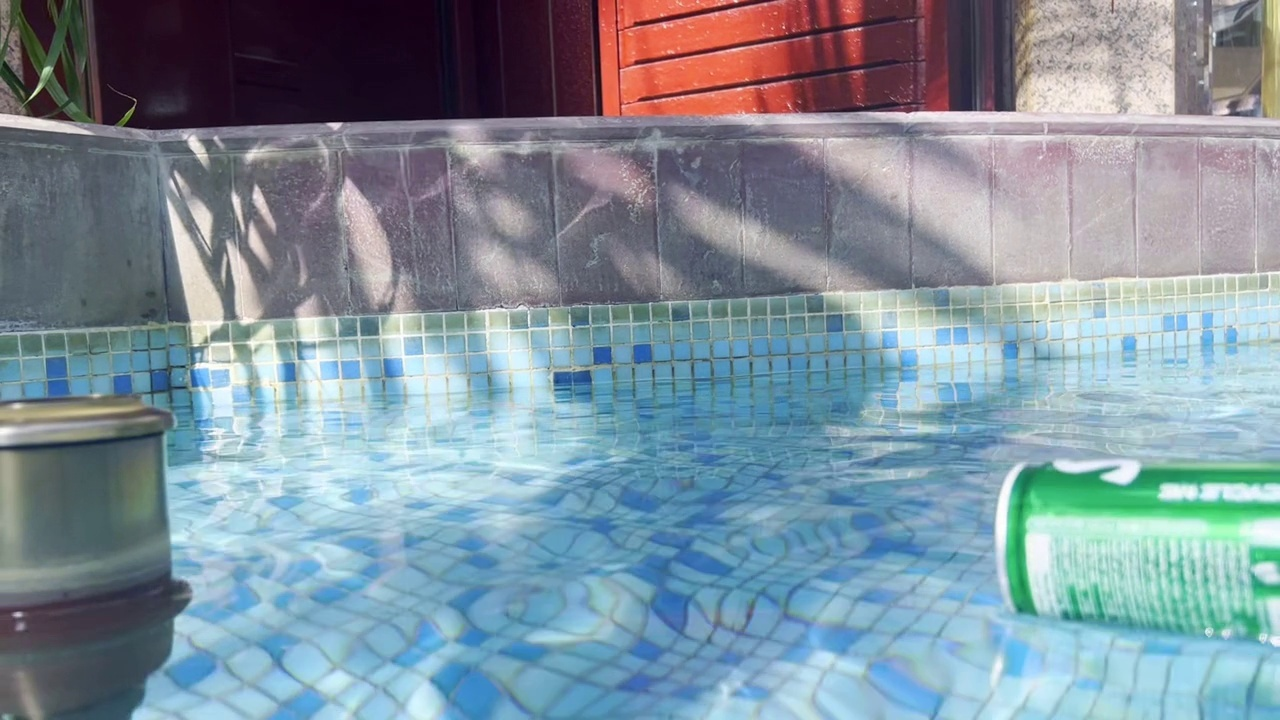debris: (979, 448, 1280, 656)
